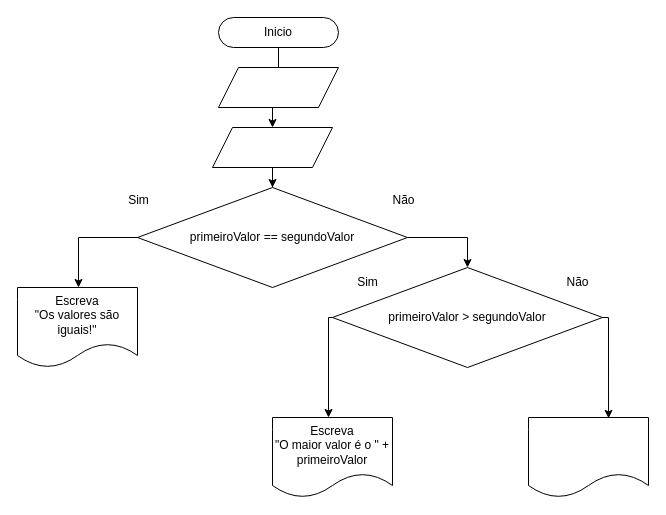
This 666x515 diagram has some shape labels left out. Here are the shapes that lost their labels. From the top down, the centre of each, then its label:
the point at 278,87: Ler primeiroValor
the point at 272,147: Ler segundoValor
the point at 588,457: Escreva "O maior valor é o " + segundoValor
